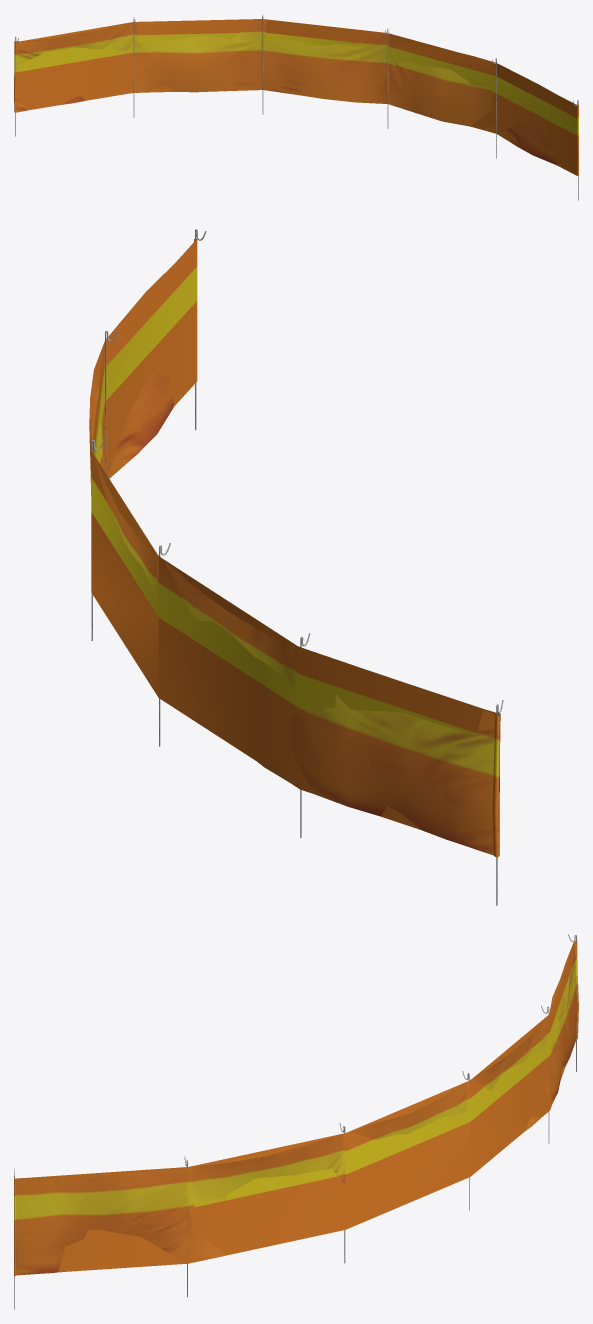
Rendered from ut_race_mesh_barricade_curve.DAE.
The picture shows the model from 3 angles, top to bottom: view 1: azimuth 30°, elevation 25°; view 2: azimuth 150°, elevation 25°; view 3: azimuth 270°, elevation 25°; orthographic projection. The views are drawn at different scales.
Visible parts, largest first — view 1: mesh_barricade_c1000, mesh_barricade_c80, mesh_barricade_c100; view 2: mesh_barricade_c80, mesh_barricade_c100, mesh_barricade_c1000; view 3: mesh_barricade_c80, mesh_barricade_c100, mesh_barricade_c1000.
Boxes of the visible parts, box(x1,y1,x2,y2) form: mesh_barricade_c1000: box(14, 14, 578, 200); mesh_barricade_c80: box(15, 19, 577, 175); mesh_barricade_c100: box(15, 39, 577, 175); mesh_barricade_c80: box(91, 240, 500, 842); mesh_barricade_c100: box(89, 242, 499, 838); mesh_barricade_c1000: box(89, 229, 503, 905); mesh_barricade_c80: box(17, 943, 574, 1272); mesh_barricade_c100: box(15, 942, 573, 1272); mesh_barricade_c1000: box(14, 934, 578, 1309).
Bounding box in the file's own units: 6.35 × 6.35 × 1.7.
